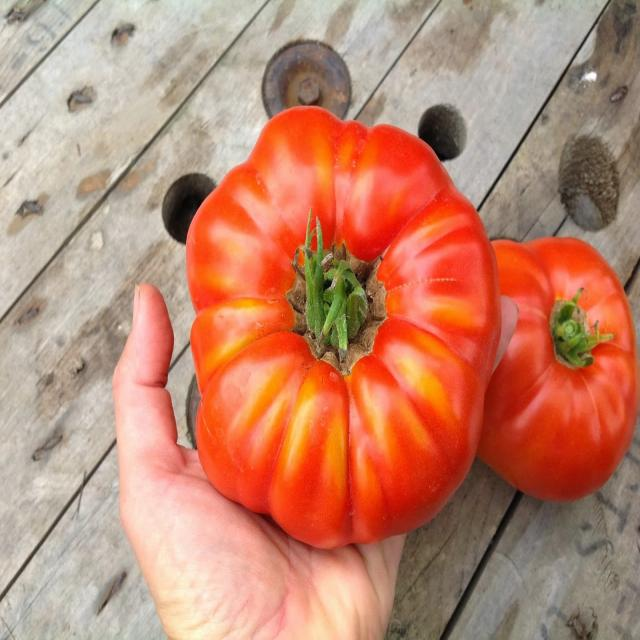tomatoes: (187, 106, 501, 549), (496, 237, 640, 501)
